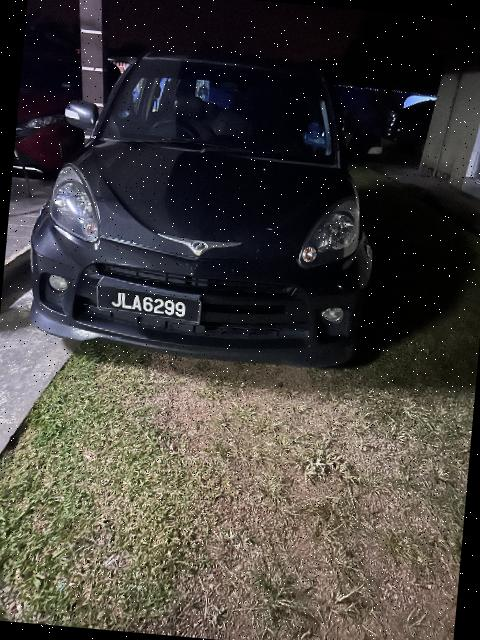License_Plate: (92, 281, 202, 330)
